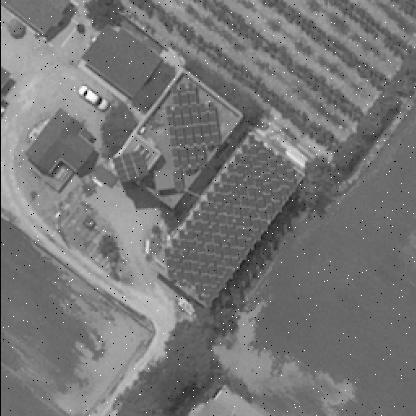solar-pv-panel: (164, 135, 296, 307), (166, 83, 218, 193), (113, 150, 149, 183)
